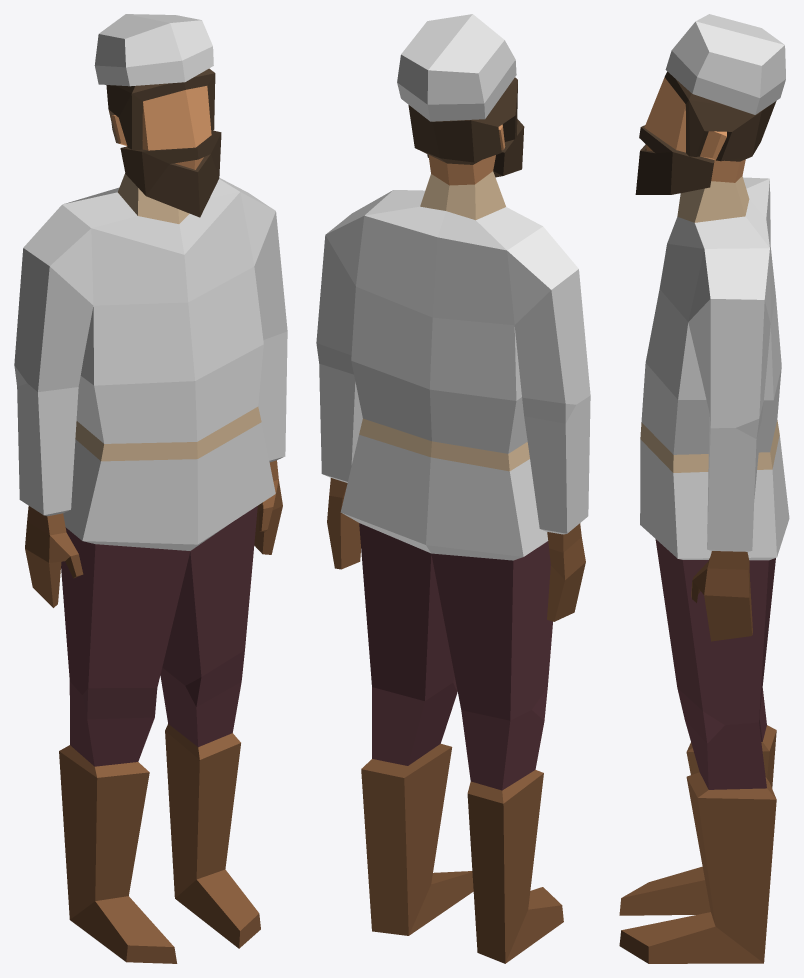
Rendered from man-lord.fbx.
3 renders of one model, left to right at view 1: azimuth 30°, elevation 25°; view 2: azimuth 150°, elevation 25°; view 3: azimuth 270°, elevation 25°, orthographic.
Visible parts, largest first — view 1: man-lord; view 2: man-lord; view 3: man-lord.
Boxes of the visible parts, x1=… form: man-lord: x1=14, y1=14, x2=287, y2=963; man-lord: x1=316, y1=14, x2=590, y2=963; man-lord: x1=619, y1=14, x2=789, y2=963.
Size of the model in its own units: 0.5438 by 1.88 by 0.3194.
